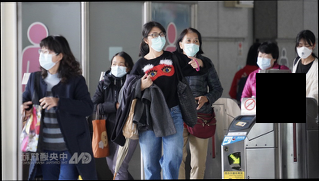with_mask: (37, 47, 56, 72), (147, 29, 166, 53), (181, 36, 200, 58), (255, 53, 274, 71), (110, 60, 128, 79), (296, 42, 313, 60)
